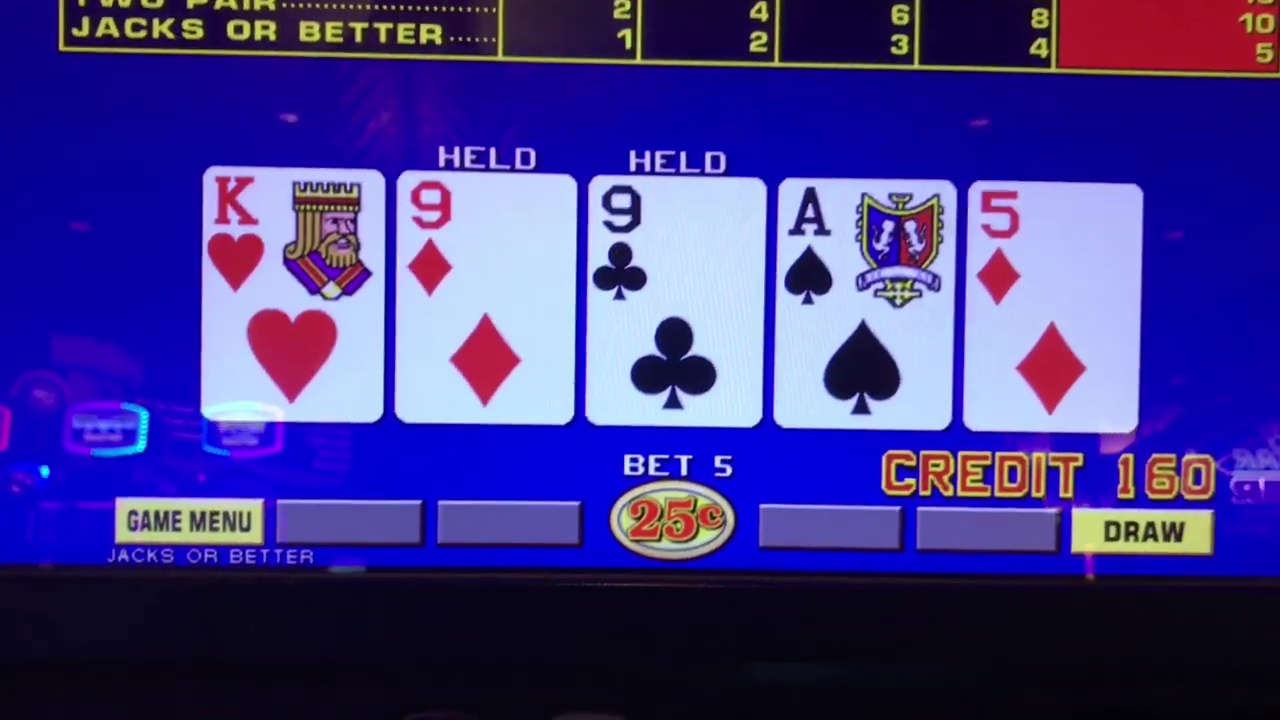C9: (593, 180, 762, 301)
D5: (972, 182, 1134, 306)
D9: (398, 176, 572, 298)
HK: (206, 169, 378, 295)
SA: (783, 180, 945, 303)
